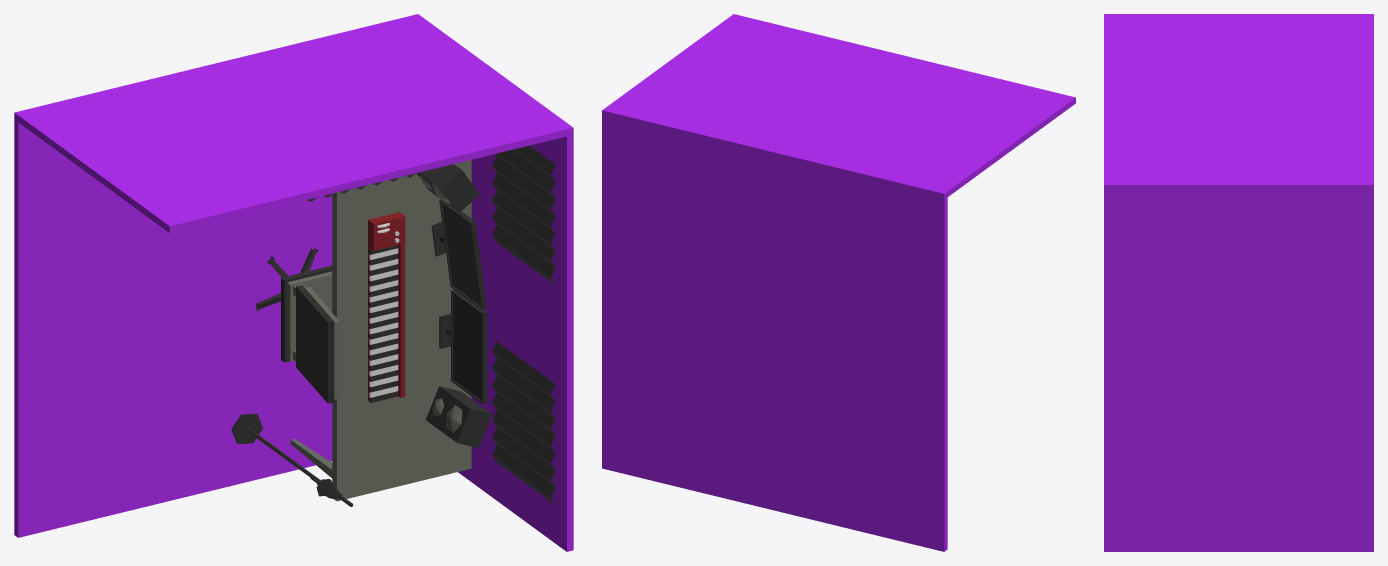
3 renders of one model, left to right at view 1: azimuth 30°, elevation 25°; view 2: azimuth 150°, elevation 25°; view 3: azimuth 270°, elevation 25°, orthographic. The views are drawn at different scales.
Parts seen in each view (by area): view 1: 5C1481FF, Cube.002, Cube.013, Cube.008, Cube.010, Cube.012, Cube.005, Cube.004, Cube.006, Cube.007, Cylinder; view 2: 5C1481FF; view 3: 5C1481FF.
Part boxes in pixels (x1,y1,x2,y2): 5C1481FF: (14,14,573,551); Cube.002: (332,159,471,501); Cube.013: (492,341,555,504); Cube.008: (368,212,405,402); Cube.010: (255,248,339,403); Cube.012: (492,145,555,284); Cube.005: (439,290,487,404); Cube.004: (431,199,486,309); Cube.006: (425,386,491,447); Cube.007: (416,164,479,212); Cylinder: (231,413,353,506); 5C1481FF: (602,14,1075,551); 5C1481FF: (1104,14,1373,551).
Bounding box in the file's own units: 6 × 6 × 4.
